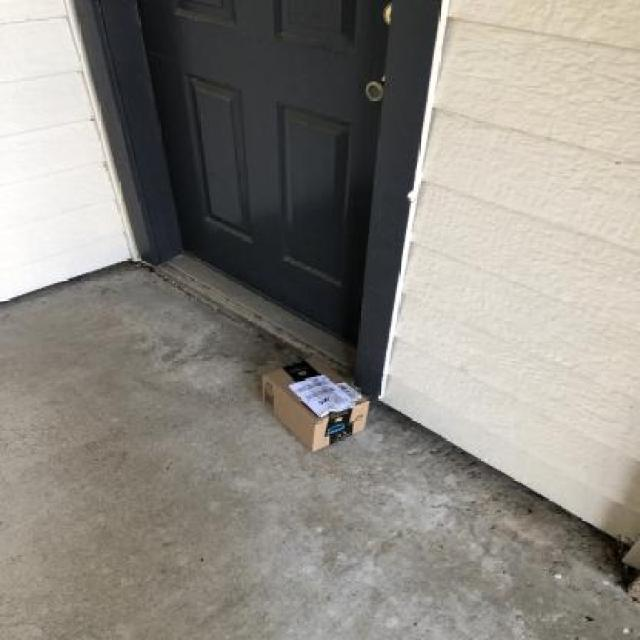cardboxes: (258, 353, 374, 456)
